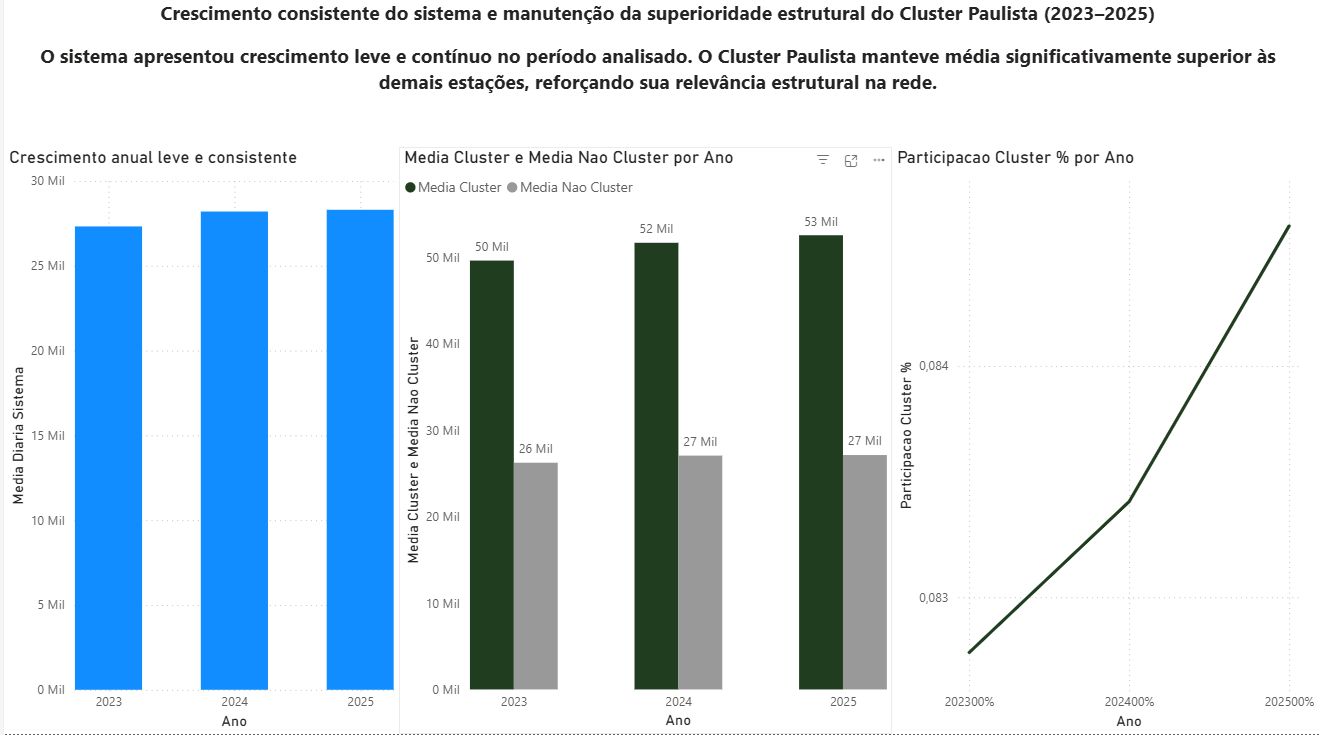

Layout of this report page (visuals, bound fields, positions):
{"tool":"powerbi","page":{"name":"Página 3","canvas":[1280,720],"ordinal":2},"visuals":[{"type":"columnChart","title":"Crescimento anual leve e consistente","fields":{"Category":["Calendario.Ano"],"Y":["Medidas.Media Diaria Sistema"]},"box":[0,148.8,384.2,570.9],"z":0},{"type":"clusteredColumnChart","fields":{"Category":["Calendario.Ano"],"Y":["Medidas.Media Cluster","Medidas.Media Nao Cluster"]},"box":[384.2,148.8,479.5,570.9],"z":1000},{"type":"lineChart","fields":{"Category":["Calendario.Ano"],"Y":["Medidas.Participacao Cluster %"]},"box":[863.7,148.8,416.3,570.9],"z":2000},{"type":"textbox","box":[0,0,1272.2,106],"z":3000}]}

Visuals, with their boxes in screenshot pixels (x1, y1, x2, y2), scaled from the page's 1280x720 canvas onto the 1320x735 screenshot:
"Crescimento anual leve e consistente" columnChart: box(0, 152, 396, 734)
clusteredColumnChart - Calendario.Ano x Medidas.Media Cluster: box(396, 152, 891, 734)
lineChart - Calendario.Ano x Medidas.Participacao Cluster %: box(891, 152, 1319, 734)
textbox: box(0, 0, 1312, 108)
